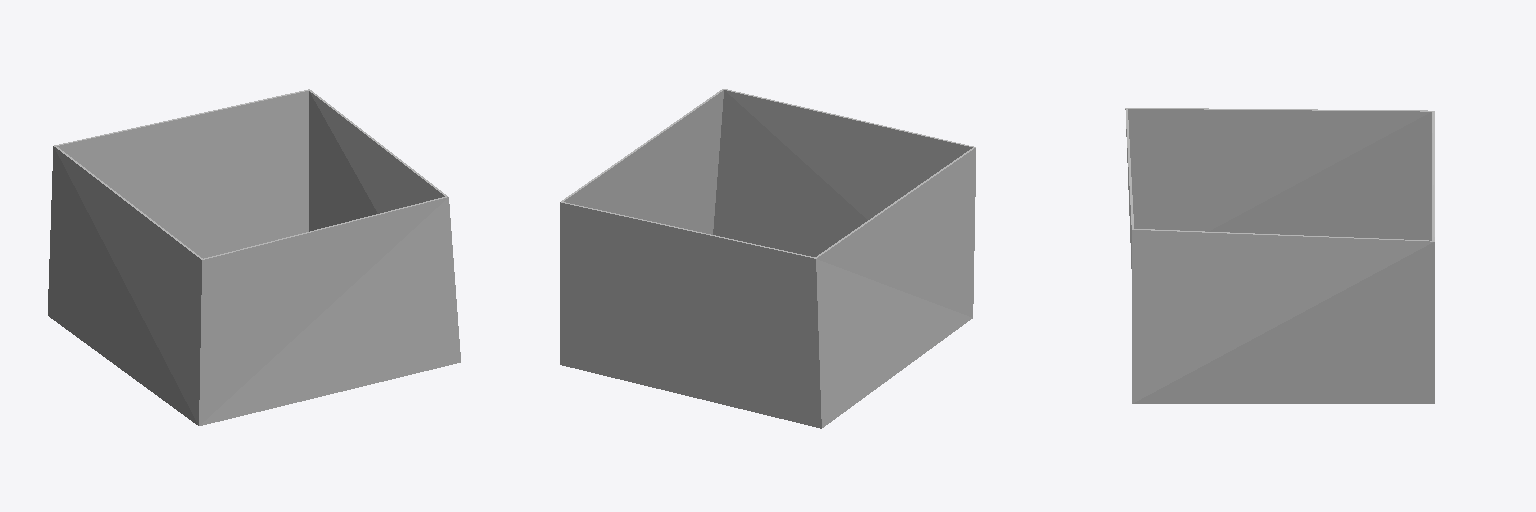
The model's file is Box_paper02a.obj.
3 renders of one model, left to right at view 1: azimuth 30°, elevation 25°; view 2: azimuth 150°, elevation 25°; view 3: azimuth 270°, elevation 25°, orthographic.
Parts seen in each view (by area): view 1: BoxCardBoard02a_LOD0_Cube.002; view 2: BoxCardBoard02a_LOD0_Cube.002; view 3: BoxCardBoard02a_LOD0_Cube.002.
Part boxes in pixels (x1,y1,x2,y2): BoxCardBoard02a_LOD0_Cube.002: (48,89,460,425); BoxCardBoard02a_LOD0_Cube.002: (560,89,975,428); BoxCardBoard02a_LOD0_Cube.002: (1125,108,1434,403).
Size of the model in its own units: 0.8289 by 0.509 by 0.8462.